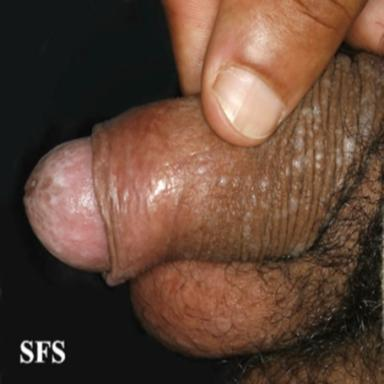lichen: (24, 139, 109, 272)
